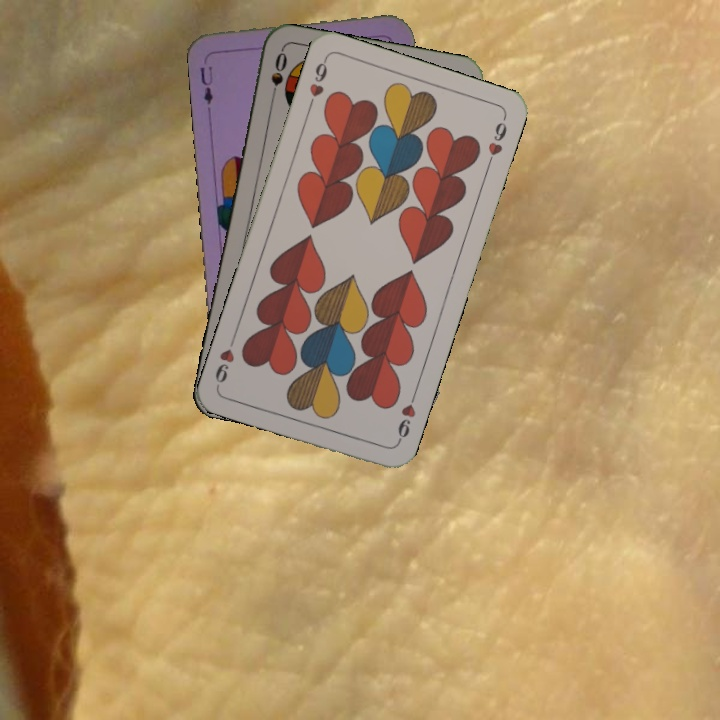EU: (196, 62, 216, 107)
H9: (393, 389, 419, 447), (304, 55, 330, 112)
SO: (266, 48, 290, 107)
